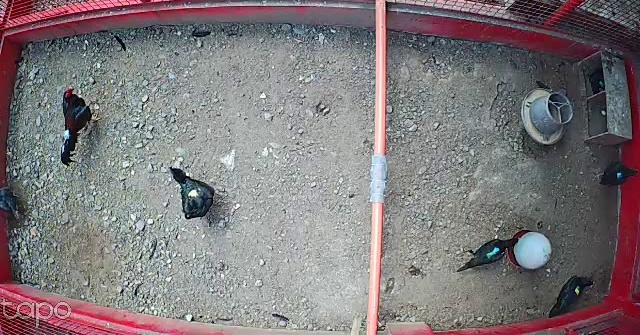Chicken: (167, 163, 223, 222), (455, 230, 525, 275), (545, 270, 594, 316), (589, 158, 639, 189), (0, 181, 28, 224)
Rooster: (56, 83, 103, 169)
Saddle_Color_Blue: (616, 172, 623, 178)
Saddle_Color_Yellow: (188, 188, 201, 199)
Saddle_Color_YellowGreen: (573, 286, 582, 295)
